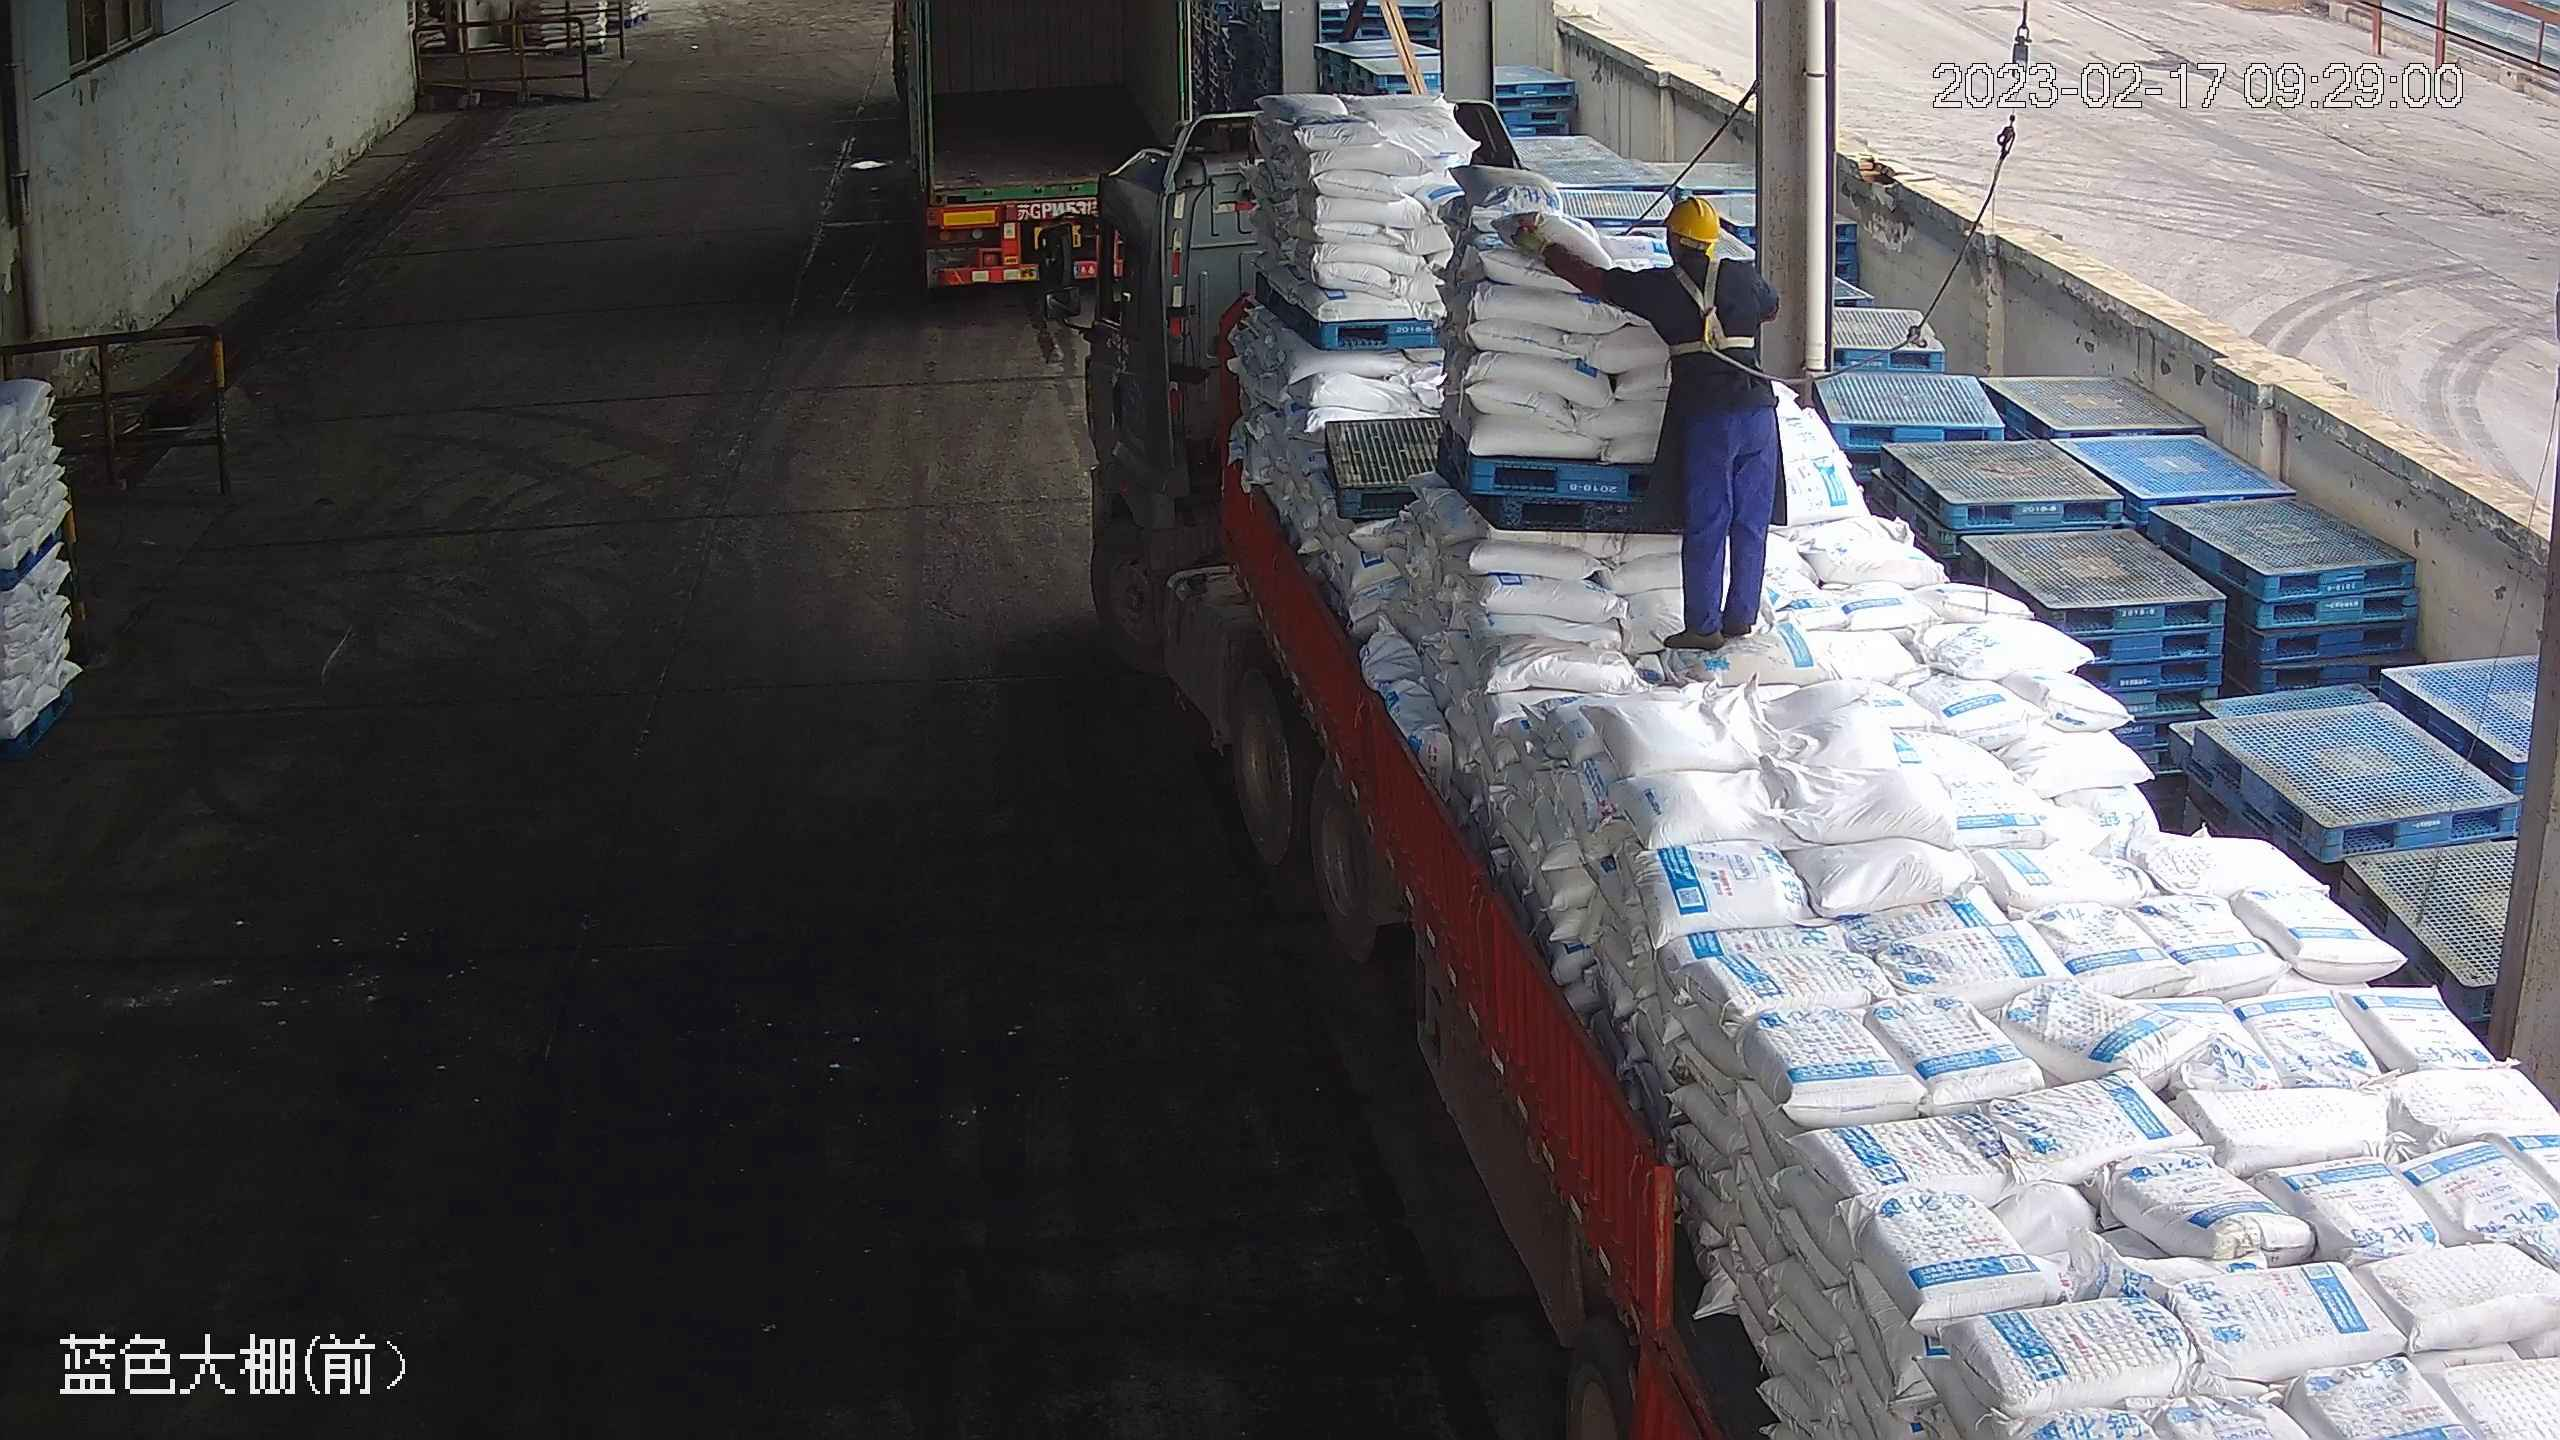belt: (1664, 266, 1756, 361)
head: (1625, 194, 1784, 356)
helmet: (1659, 196, 1725, 247)
people: (1510, 191, 1783, 656)
truck: (1034, 100, 2560, 1440), (891, 1, 1215, 301)
